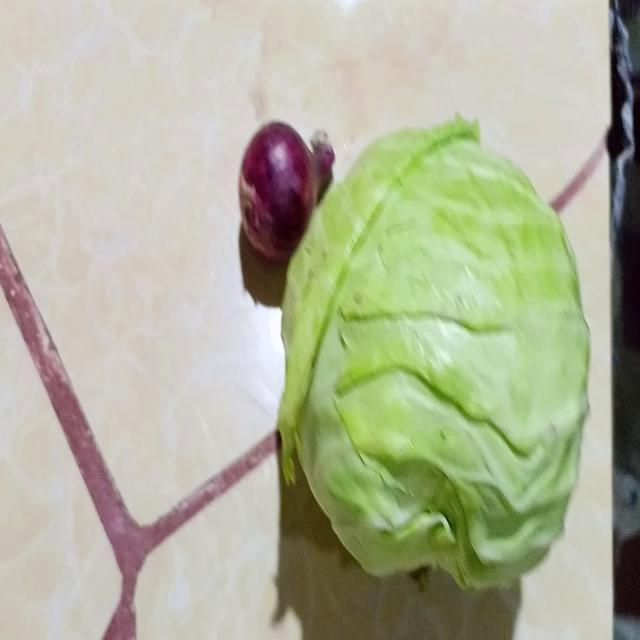cabbage: (278, 118, 589, 591)
onion: (240, 122, 335, 263)
